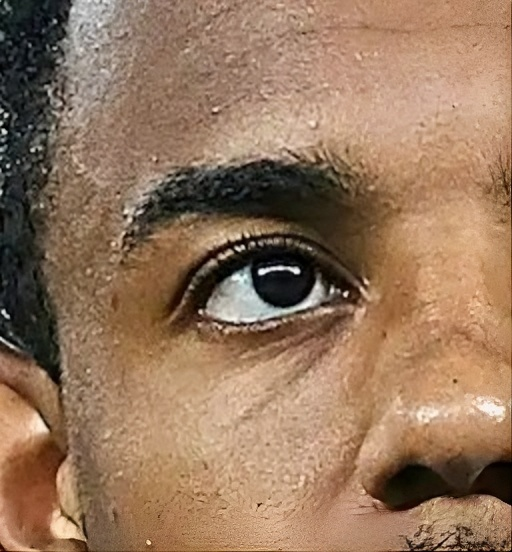iris: (250, 262, 317, 310)
pupil: (260, 260, 305, 292)
sclera: (204, 264, 334, 324)
